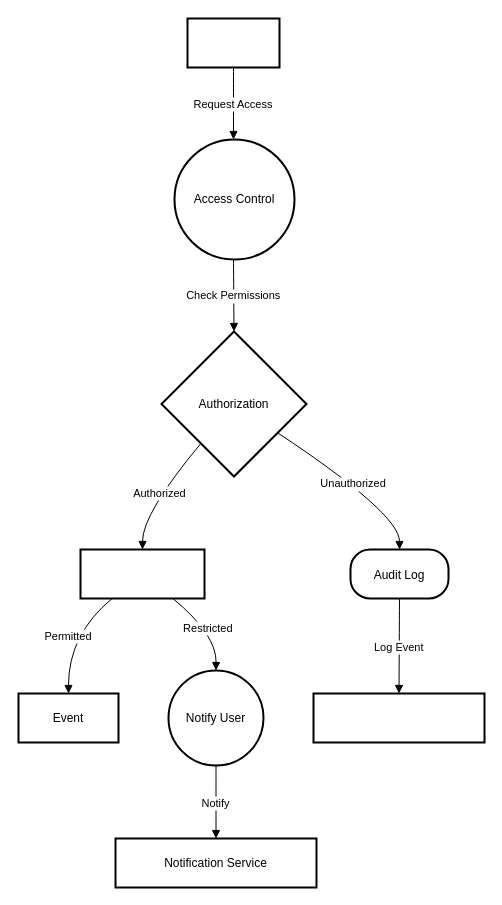
The diagram is 502 pixels wide and 905 high, and some of its shapes have lost their labels. The centre of each missing label's shape, as x and y in pixels:
"Logging Service" belongs at point 398,717.
"Resource" belongs at point 142,573.
"User" belongs at point 233,42.
